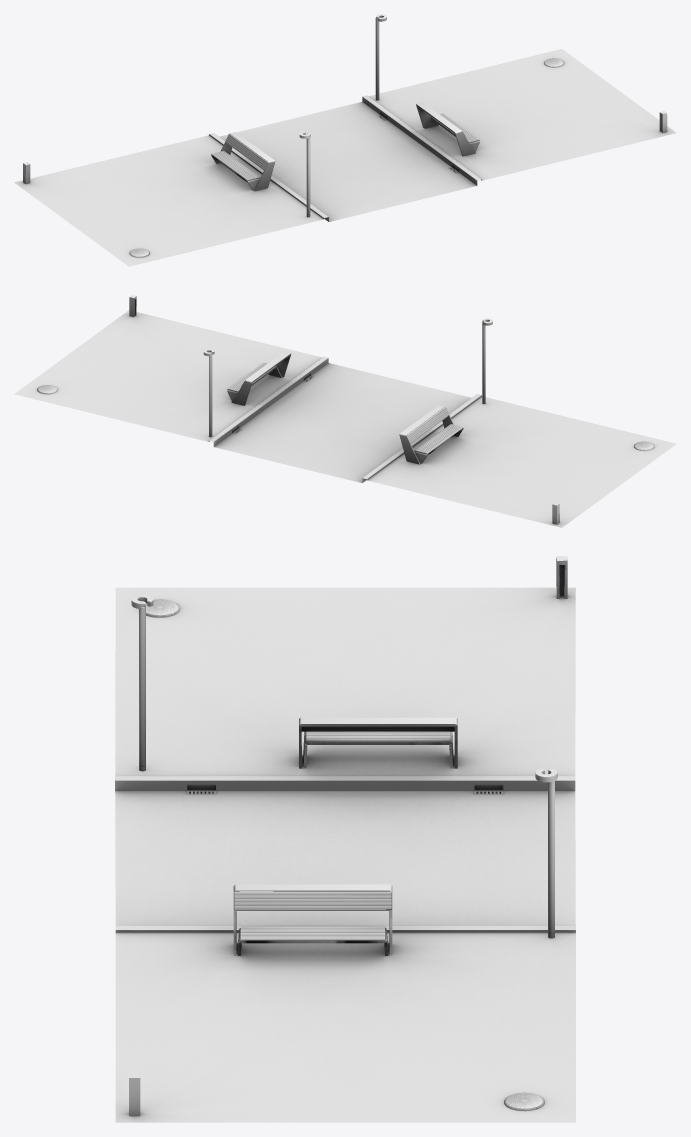
File: street_4.glb
3 renders of one model, top to bottom at view 1: azimuth 30°, elevation 25°; view 2: azimuth 150°, elevation 25°; view 3: azimuth 270°, elevation 25°, orthographic. The views are drawn at different scales.
Visible parts, largest first — view 1: street_4; view 2: street_4; view 3: street_4.
Boxes of the visible parts, x1,y1,x2,y2 form: street_4: (14, 14, 676, 266); street_4: (14, 295, 676, 527); street_4: (115, 556, 575, 1122).
Size of the model in its own units: 22 by 3.36 by 8.01.
Materials: 1 (1 with a texture image).
